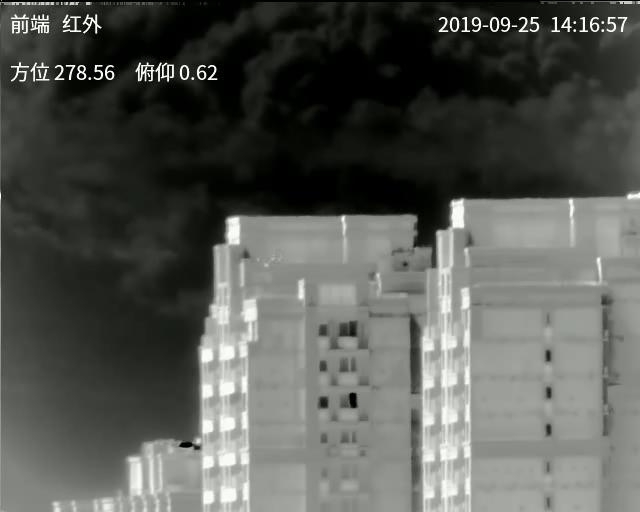uav: (252, 248, 283, 274)
